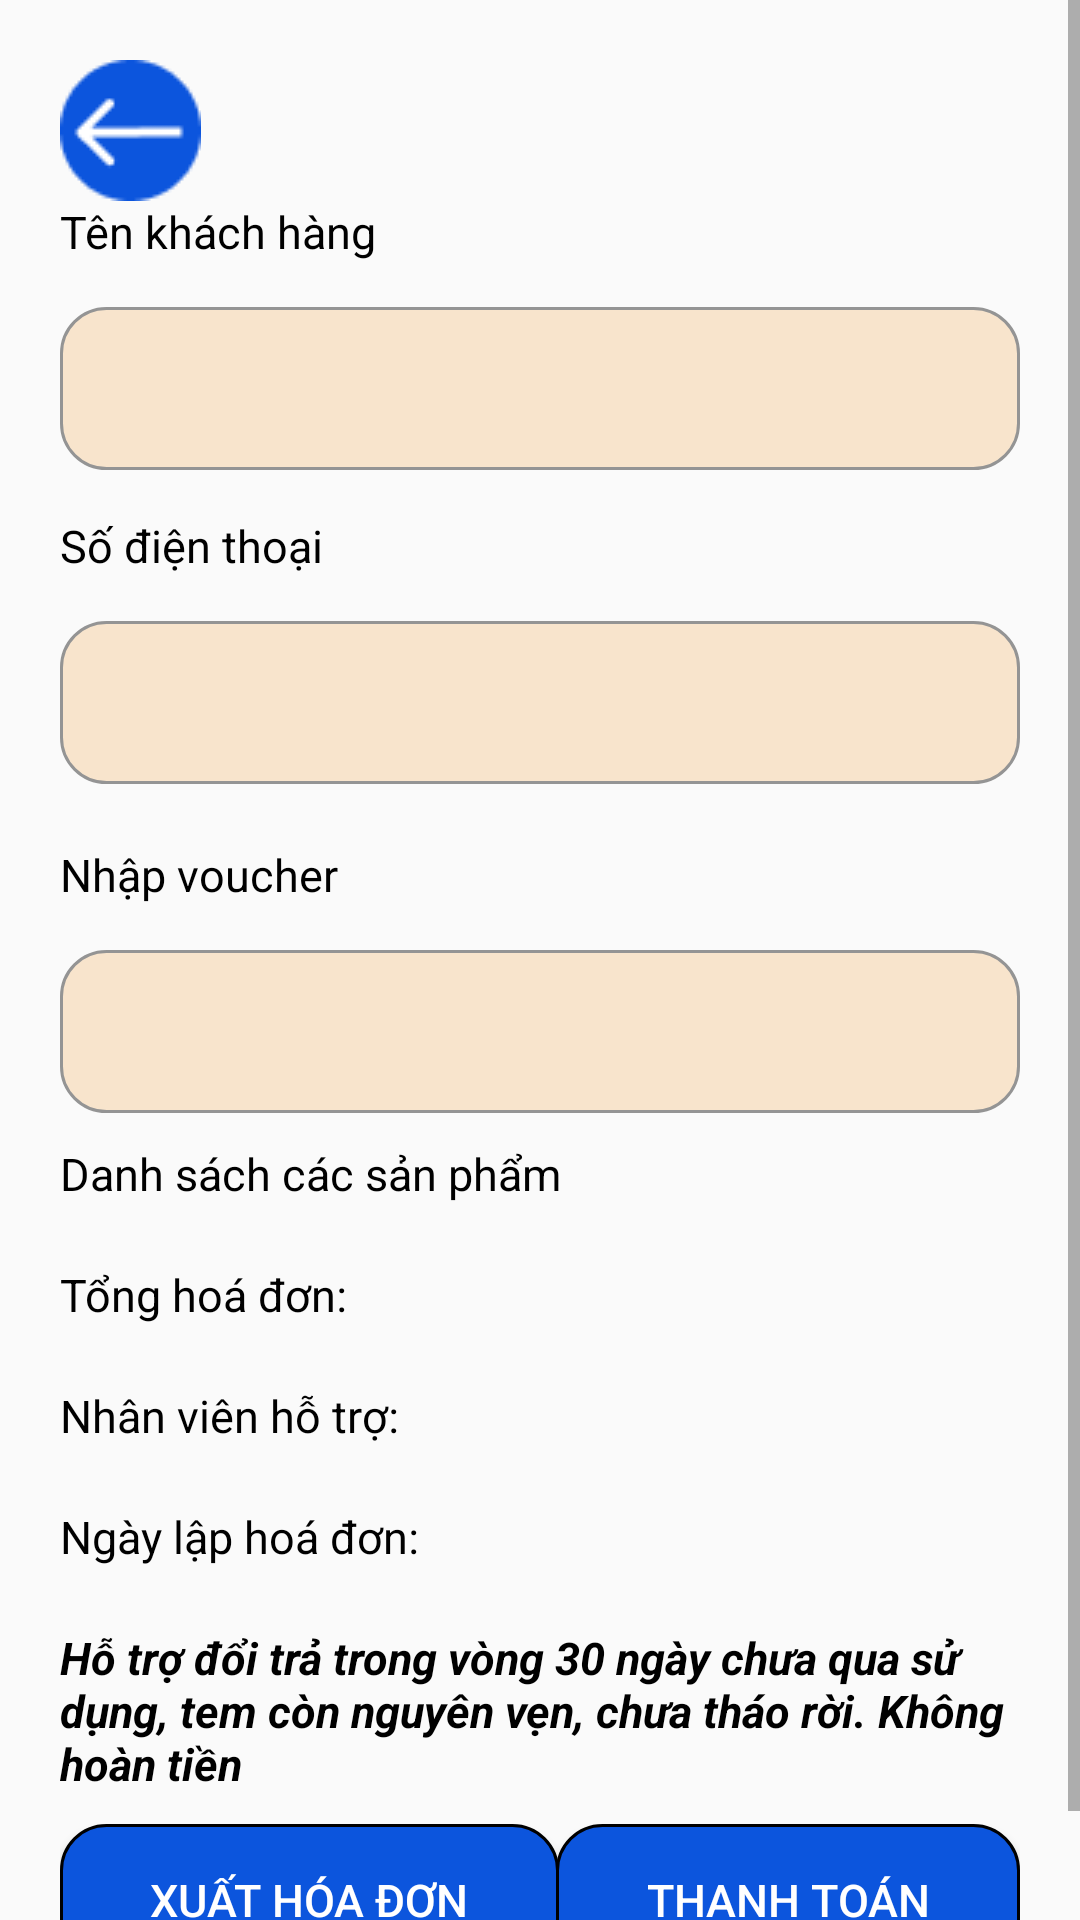

Icons on this 1080 x 1920 Android screen, each with the point to tap as (x=x, y=y):
back: (x=130, y=130)
